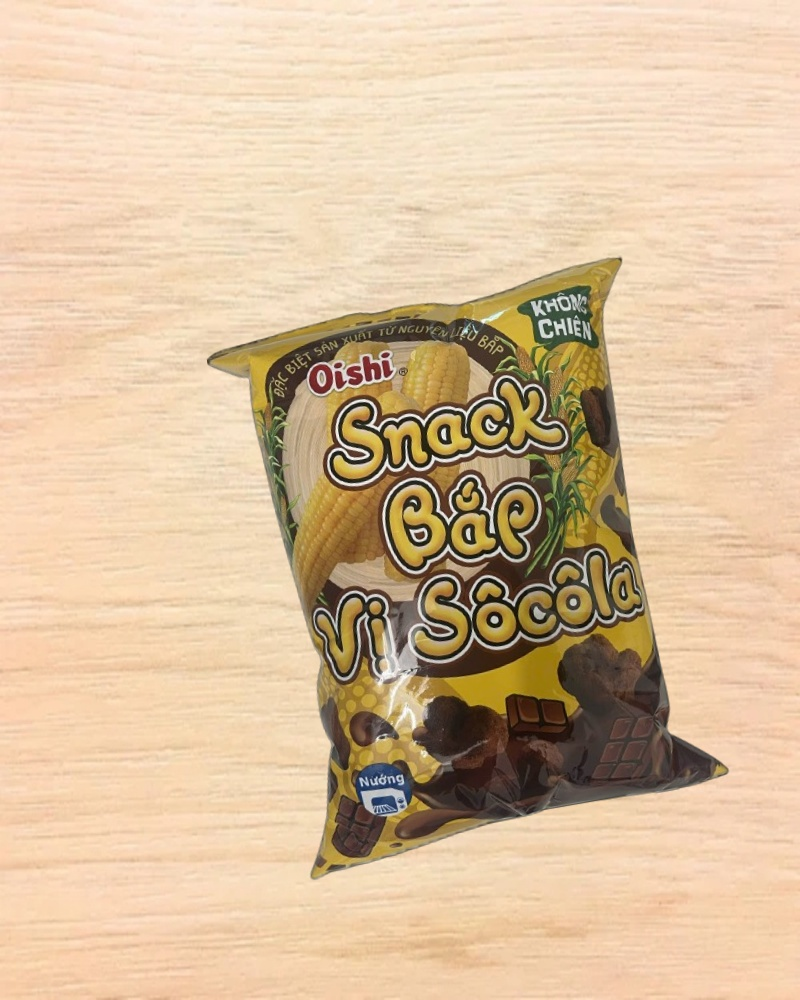Snack socola: (205, 257, 733, 870)
